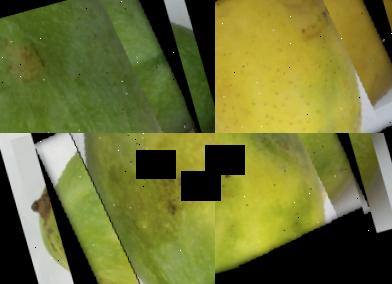PartiallyRipe: (31, 133, 215, 284), (215, 133, 373, 284)
Ripe: (215, 0, 392, 133)
Unripe: (0, 0, 208, 133)
